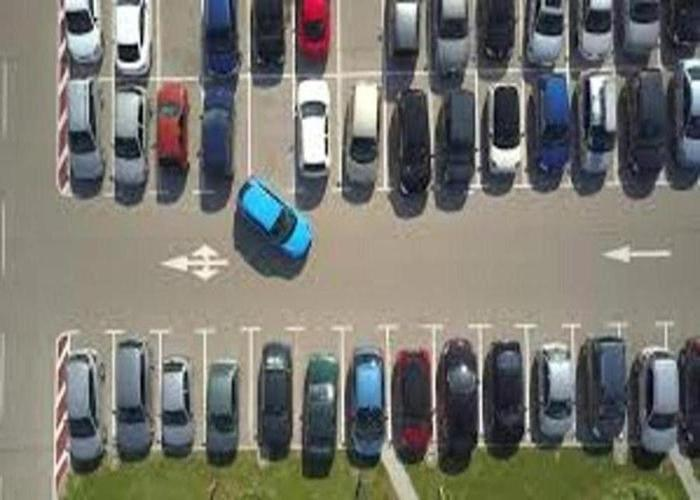car: (236, 178, 314, 261), (393, 83, 440, 193), (69, 348, 111, 461), (116, 349, 160, 455), (490, 345, 536, 444), (581, 344, 629, 437), (66, 80, 107, 187), (295, 76, 338, 177), (640, 346, 683, 446), (109, 85, 152, 184), (578, 75, 627, 161), (194, 86, 237, 182), (446, 86, 483, 188), (298, 82, 336, 178), (487, 88, 531, 170), (260, 351, 299, 443), (396, 352, 435, 443), (446, 349, 481, 449), (310, 356, 343, 457), (351, 80, 381, 184), (356, 351, 385, 453), (64, 0, 106, 69), (431, 1, 472, 69), (206, 365, 238, 452), (476, 0, 519, 64), (639, 76, 668, 170), (526, 2, 571, 62), (544, 346, 573, 439), (158, 84, 188, 172), (541, 80, 572, 164), (163, 367, 195, 447), (205, 0, 240, 70), (112, 3, 149, 68), (252, 2, 290, 65), (577, 1, 618, 59), (389, 1, 425, 66), (295, 3, 333, 59), (624, 2, 663, 52)
